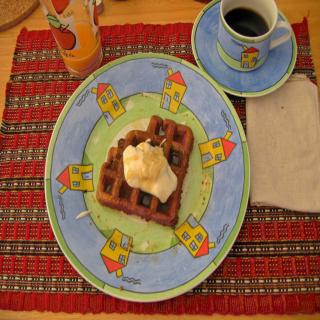Waffle: (94, 115, 194, 226)
